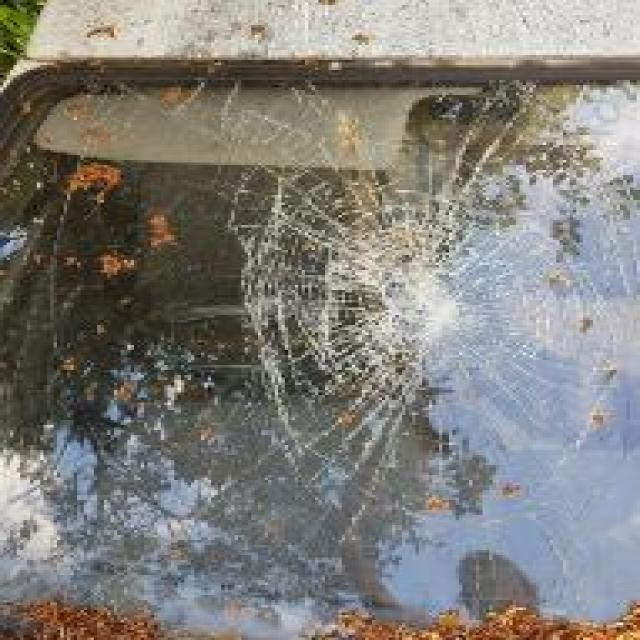Windshield: (10, 80, 640, 630)
